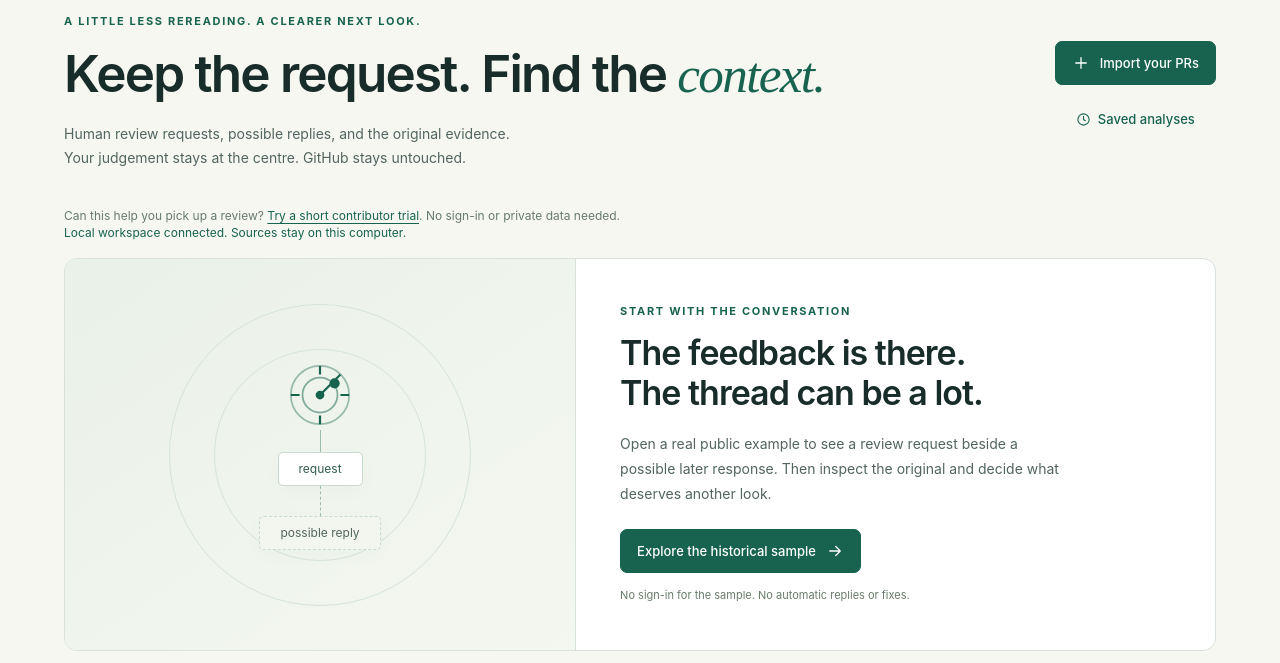
evidence workbench integration (DOM simulation, not a visual browser audit) › lets a zero-card model reading explicitly become a separate comment reading list
Click the button "Explore the historical sample": (740, 551) 620,529 -> 861,573
(page scrolled)
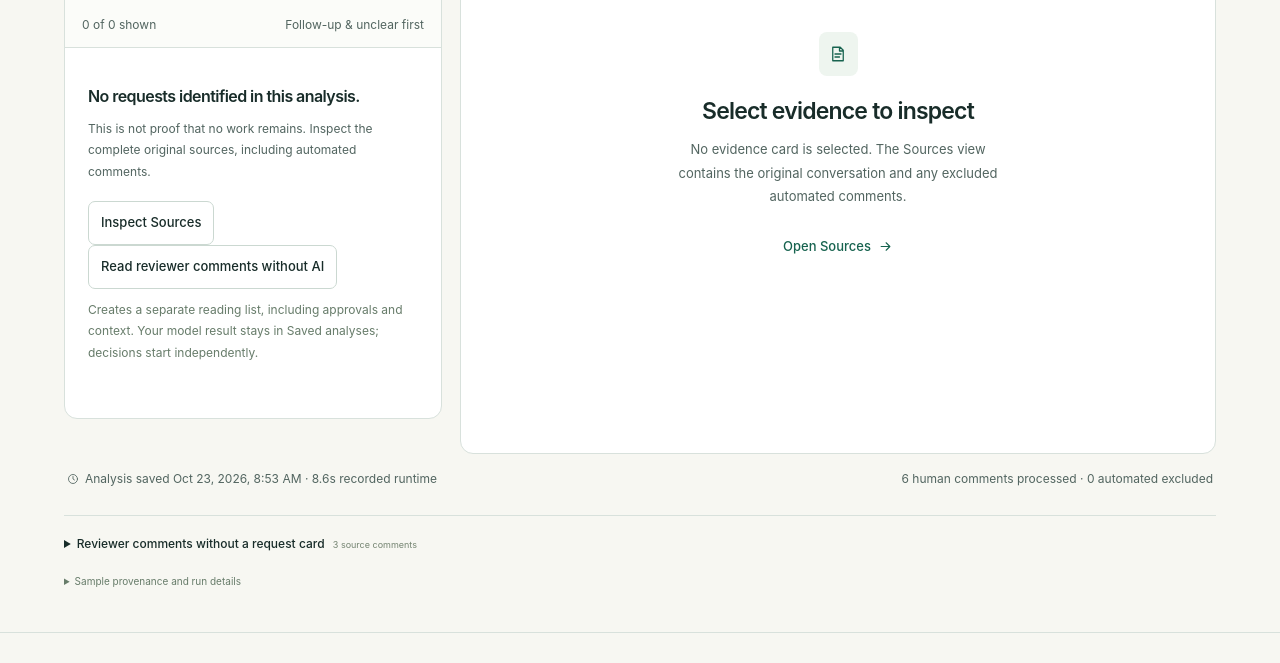
Expected: the text "Your model result stays in Saved analyses" is shown, 88,302 -> 402,360
Click the button "Read reviewer comments without AI": (213, 266) 88,244 -> 337,288
(page scrolled)
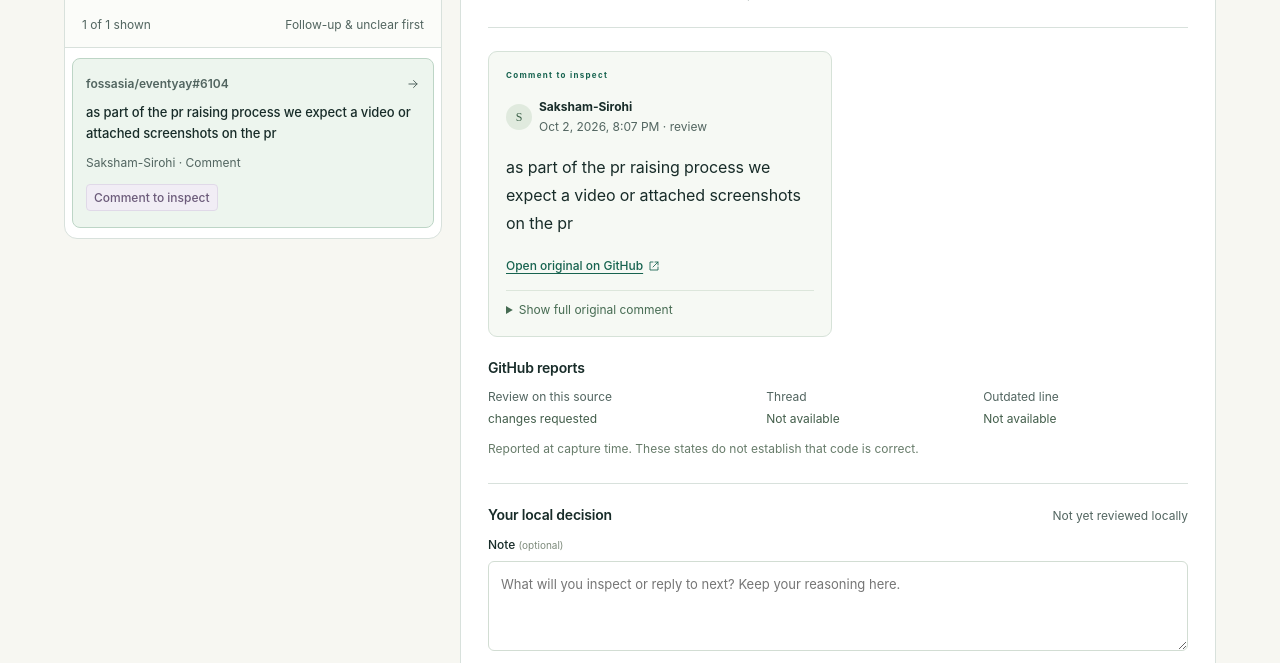
Expected: the text box labelled "Note (optional)" is empty
In the text box labelled "Note (optional)": (838, 606) 488,561 -> 1188,651, type "Check the original reviewer request"
(page scrolled)
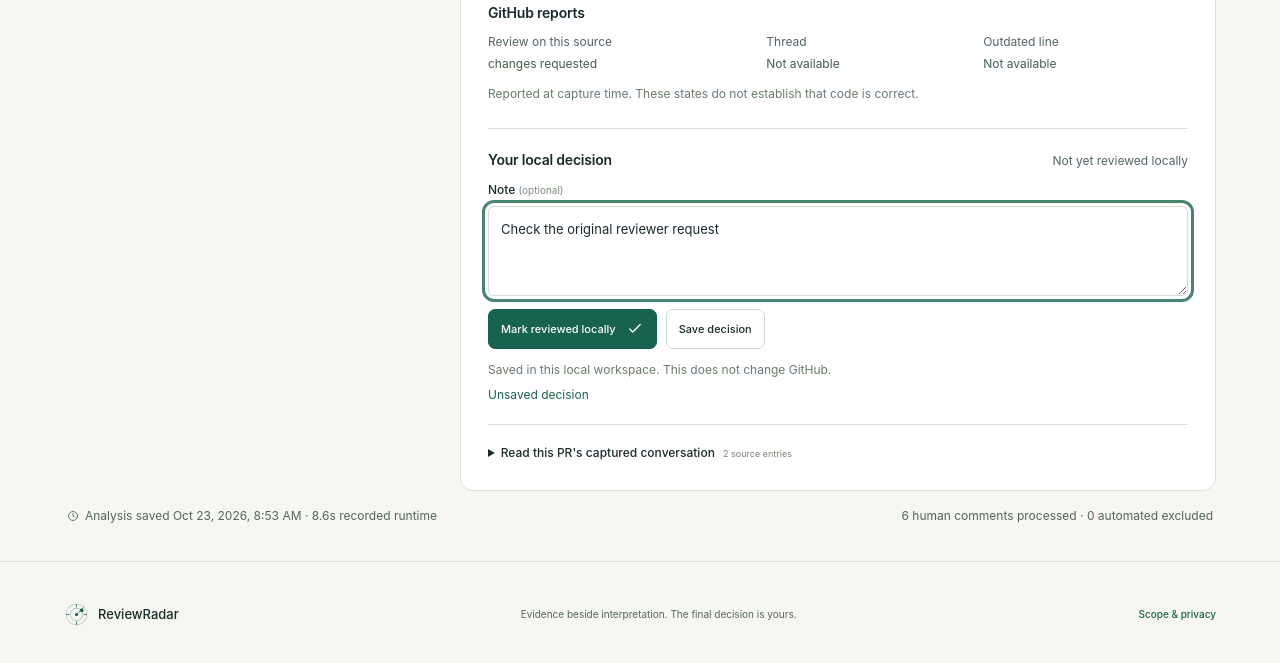
Click the button "Save decision": (715, 329) 666,309 -> 765,349
(page scrolled)
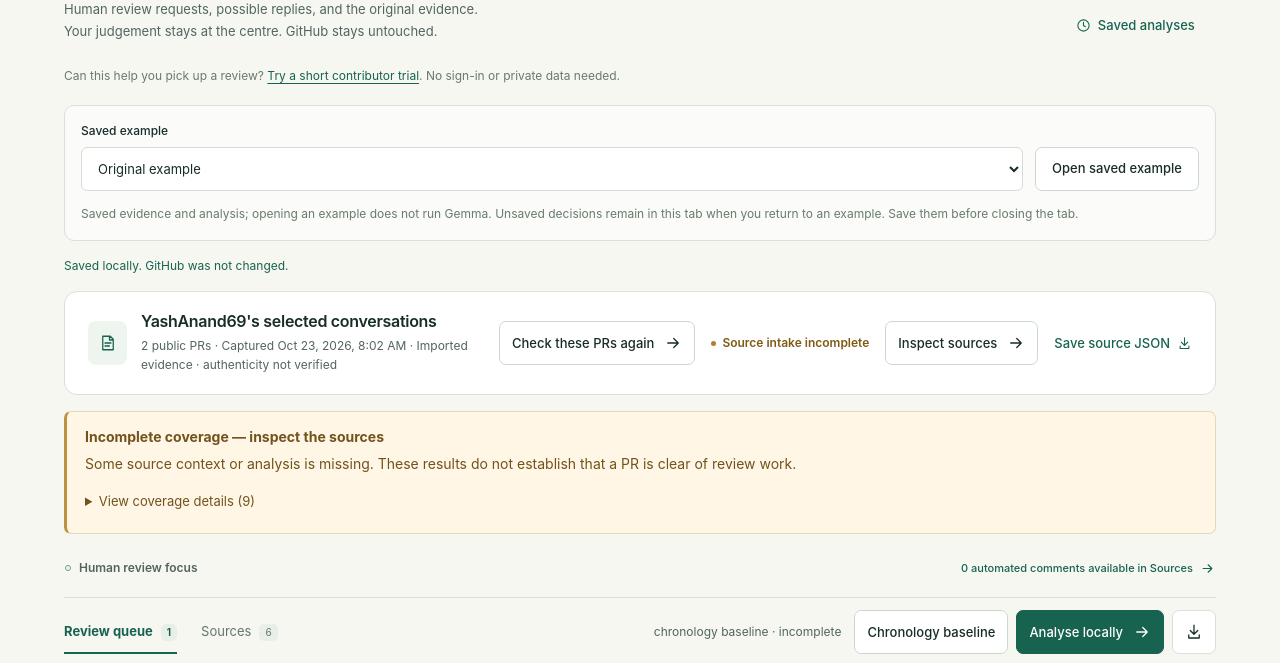
Expected: the text "Saved locally. GitHub was not changed." is shown, 64,258 -> 288,273
